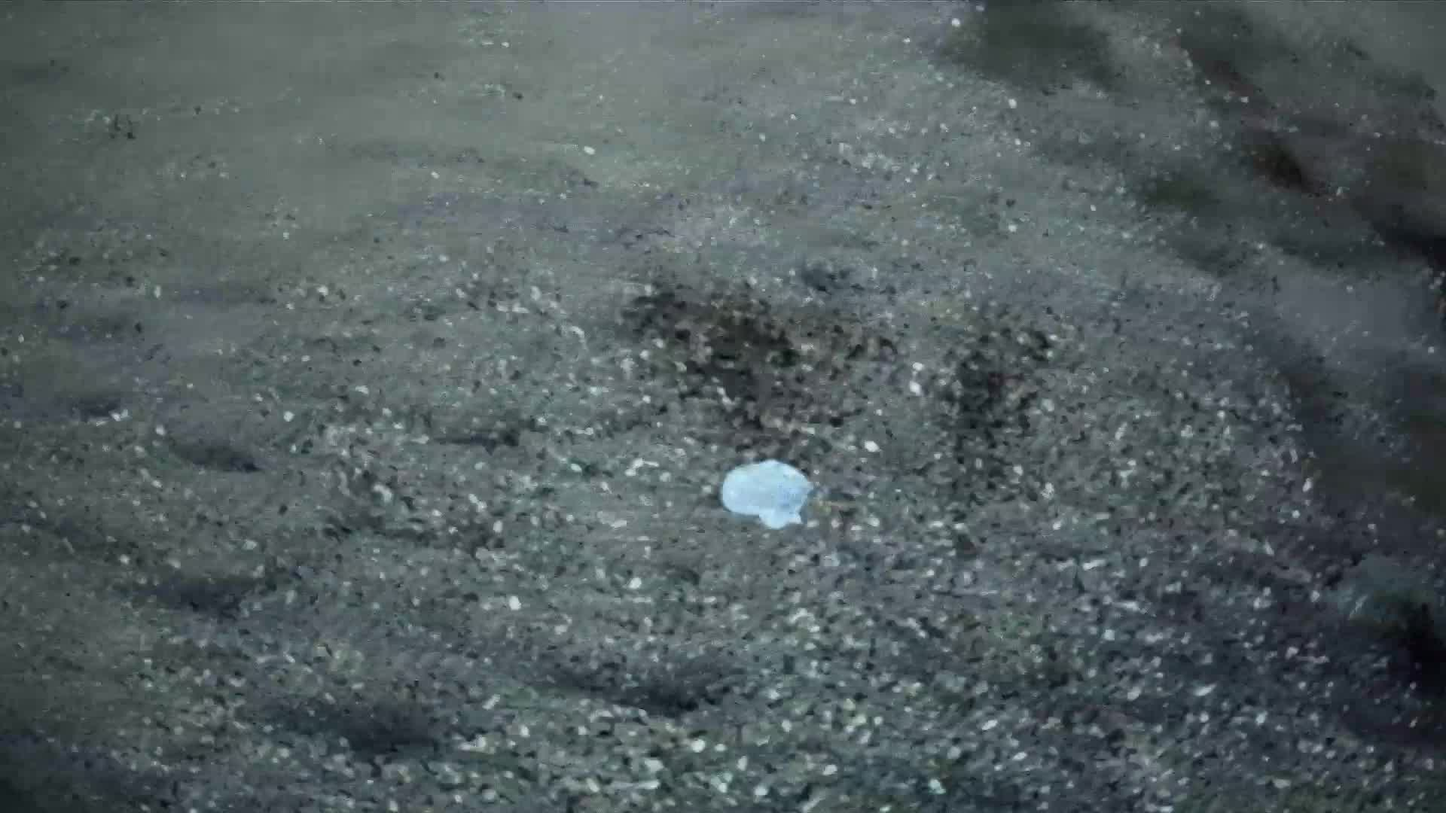Target: (716, 454, 815, 533)
